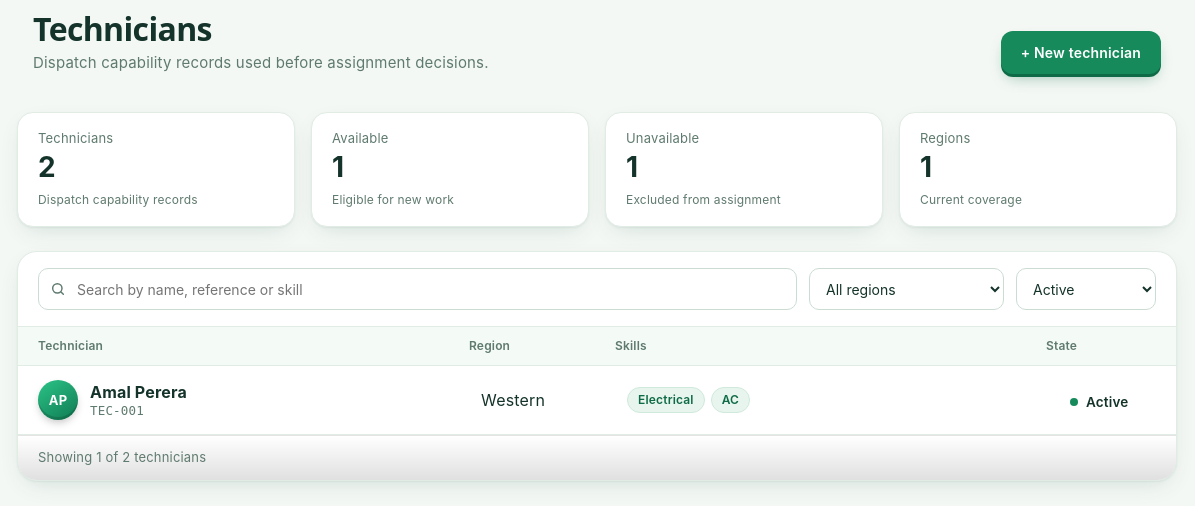
Test case: Technician views › filters technician capability records by state and preserves the selected filter in the route
The width and height of the screenshot is (1195, 506).
Check: the link "Amal Perera" is shown, box 90,382 -> 187,402
Check: the link "Saman Silva" is not shown
Select "Inactive" in the dropdown named "Filter by state" at (1086, 289), box 1016,268 -> 1156,310
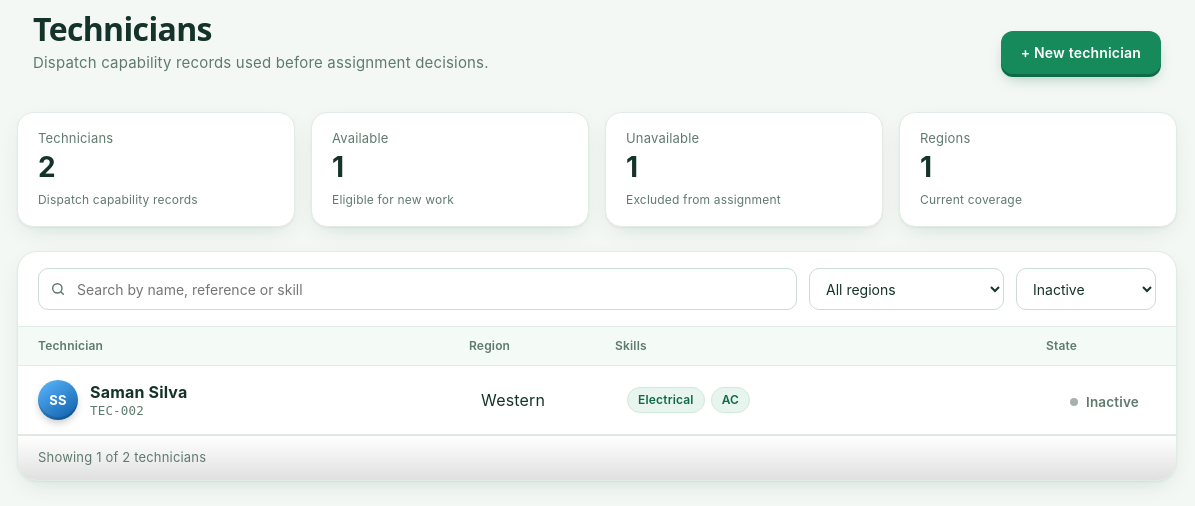
Check: the link "Saman Silva" is shown, box 90,382 -> 187,402
Check: the link "Amal Perera" is gone
